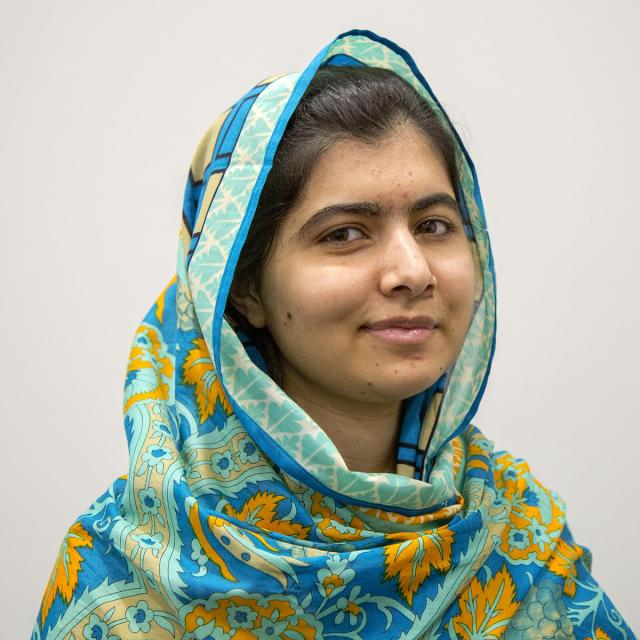mobile_phonerotation: (30, 28, 635, 638)
